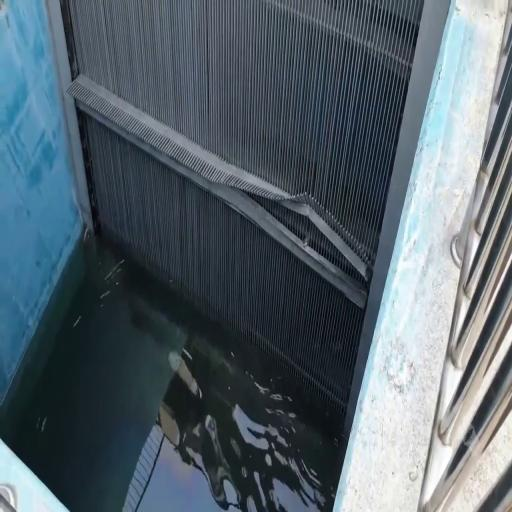rake_broken: (210, 165, 368, 282)
